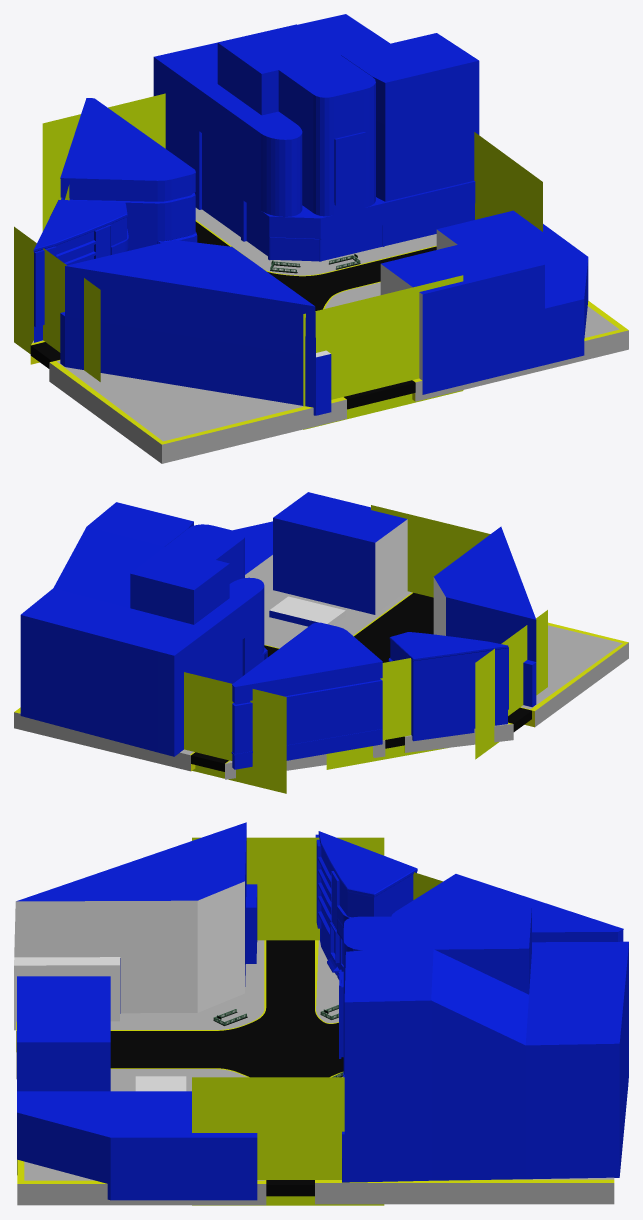
File: city_1.fbx
3 views of the same model, one above another, from view 1: azimuth 30°, elevation 25°; view 2: azimuth 150°, elevation 25°; view 3: azimuth 270°, elevation 25° (orthographic). The views are drawn at different scales.
Parts seen in each view (by area): view 1: Cube.002, Cube.004, Cube.003, Plane.005, Plane.001, Cube.001, Cube.005, road; view 2: Cube.002, Plane.005, Cube.003, Cube.001, Plane.001, Cube.004, Cube.005, road, Cube.006; view 3: Cube.002, Cube.004, Cube.003, Plane.005, Plane.001, road, Cube.005, Cube.001, Cube.006.
Boxes of the visible parts, left/top/right/bottom form: Cube.002: left=153, top=14, right=479, bottom=261; Cube.004: left=60, top=240, right=331, bottom=415; Cube.003: left=380, top=210, right=588, bottom=394; Plane.005: left=14, top=93, right=542, bottom=429; Plane.001: left=30, top=208, right=628, bottom=463; Cube.001: left=60, top=98, right=197, bottom=250; Cube.005: left=33, top=200, right=128, bottom=342; road: left=30, top=221, right=436, bottom=409; Cube.002: left=20, top=502, right=267, bottom=756; Plane.005: left=184, top=505, right=547, bottom=793; Cube.003: left=233, top=492, right=407, bottom=614; Cube.001: left=231, top=622, right=382, bottom=769; Plane.001: left=14, top=590, right=628, bottom=779; Cube.004: left=433, top=526, right=536, bottom=707; Cube.005: left=388, top=632, right=508, bottom=741; road: left=191, top=592, right=531, bottom=771; Cube.006: left=269, top=596, right=345, bottom=626; Cube.002: left=339, top=906, right=628, bottom=1182; Cube.004: left=14, top=822, right=257, bottom=1030; Cube.003: left=17, top=976, right=257, bottom=1200; Plane.005: left=192, top=837, right=442, bottom=1205; Plane.001: left=16, top=940, right=614, bottom=1205; road: left=16, top=940, right=343, bottom=1196; Cube.005: left=315, top=831, right=417, bottom=979; Cube.001: left=391, top=874, right=623, bottom=942; Cube.006: left=135, top=1076, right=186, bottom=1091.
Size of the model in its own units: 60423 by 22907 by 61722.
